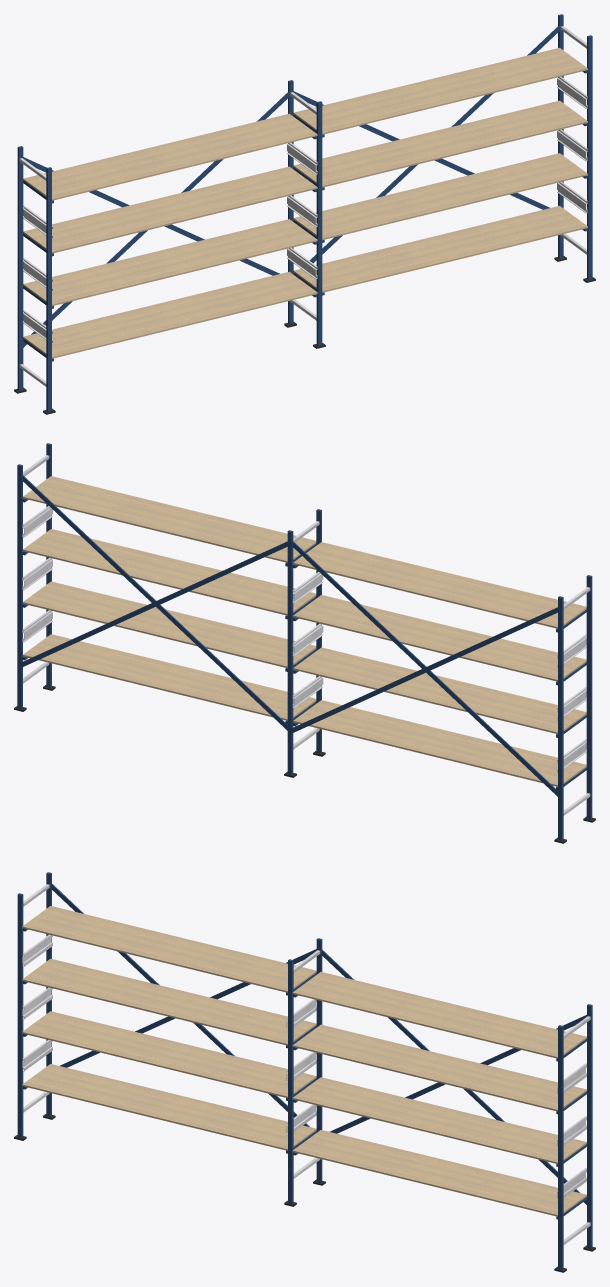
Rendered from BigShelves02.glb.
3 views of the same model, one above another, from view 1: azimuth 30°, elevation 25°; view 2: azimuth 150°, elevation 25°; view 3: azimuth 330°, elevation 25° (orthographic).
Parts seen in each view (by area): view 1: BigShelves02; view 2: BigShelves02; view 3: BigShelves02.
Boxes of the visible parts, x1,y1,x2,y2 form: BigShelves02: [14, 14, 595, 414]; BigShelves02: [14, 443, 595, 843]; BigShelves02: [14, 872, 595, 1272].
Bounding box in the file's own units: 17.75 × 7.54 × 1.81.
Materials: 4 (4 with a texture image).
